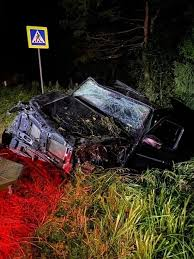car: (13, 71, 171, 182)
